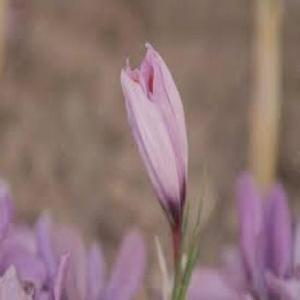Saffron: (118, 44, 194, 230)
